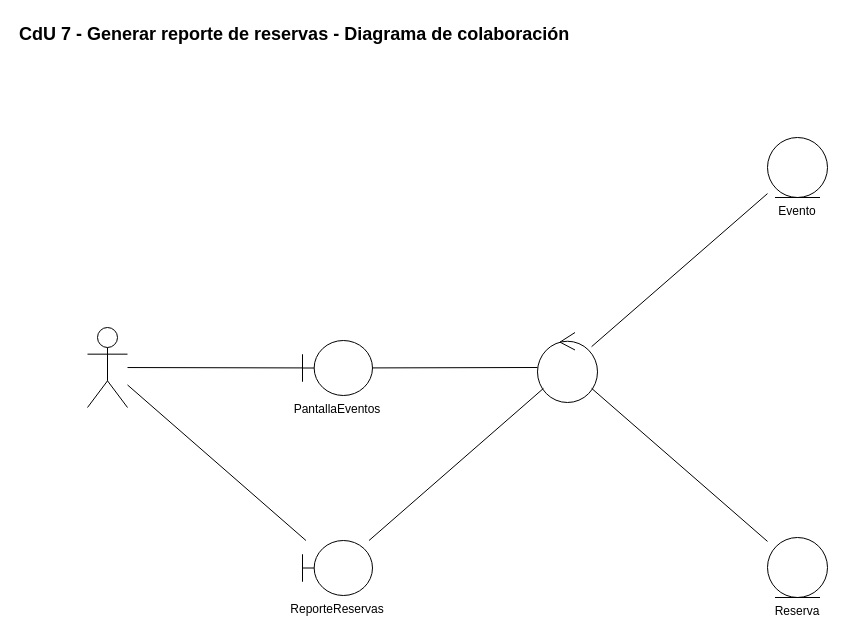
Some shapes in this 845 by 635 pixel diagram are drawn without their labels. The centre of each missing label's shape, as x and y in pixels:
"GestiónReserva" belongs at pixel 567 367.
"Organizador" belongs at pixel 107 367.
